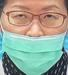mask_weared_incorrect: (1, 2, 68, 75)
